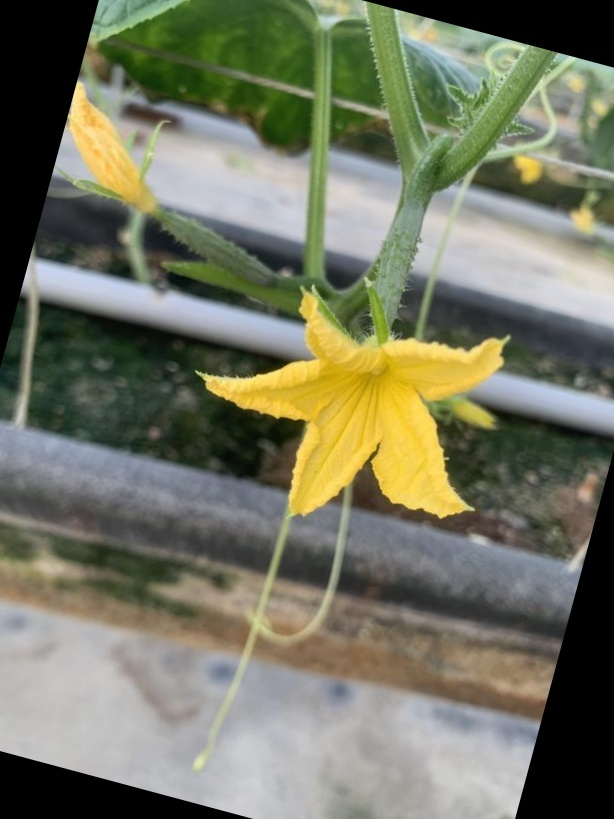flowering: (197, 280, 516, 529)
